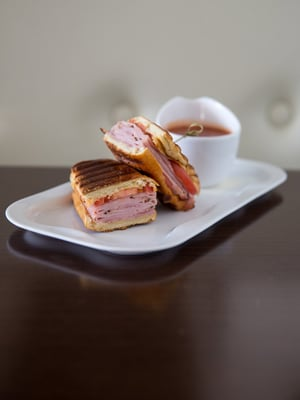pizza: (156, 95, 242, 184)
soup: (102, 115, 202, 211), (70, 158, 159, 231)
